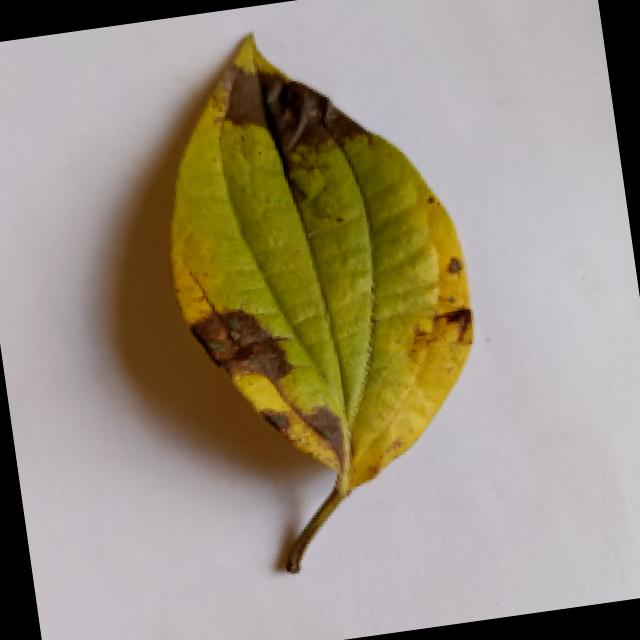slow-decline: (136, 7, 505, 580)
